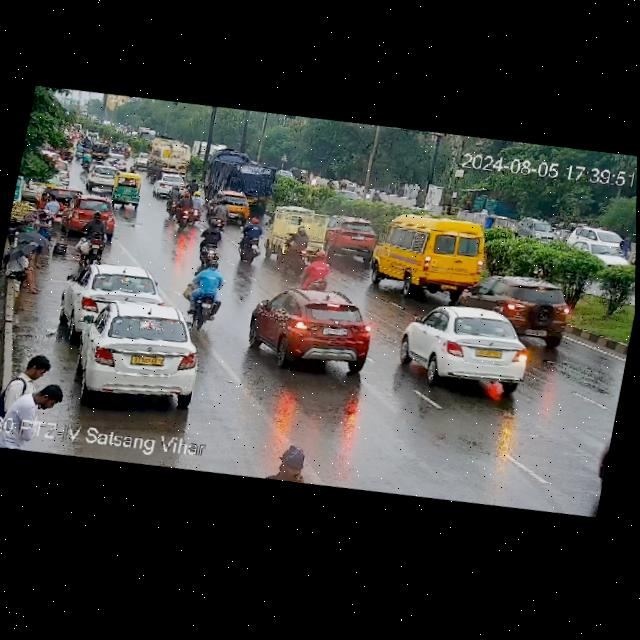bus: (367, 196, 498, 303)
car: (65, 288, 211, 415), (391, 293, 537, 405), (231, 271, 378, 381), (454, 263, 576, 351), (64, 253, 164, 330), (58, 189, 124, 238), (566, 218, 633, 266), (325, 213, 382, 264), (152, 169, 189, 200), (106, 180, 141, 210), (519, 212, 555, 241), (83, 163, 118, 192), (225, 187, 252, 220), (54, 179, 82, 210), (103, 151, 128, 172), (129, 150, 151, 173), (117, 170, 142, 189), (130, 148, 149, 167), (92, 141, 109, 158), (124, 141, 133, 157)
motorcycle: (184, 254, 227, 328), (163, 182, 207, 235), (230, 215, 266, 267), (76, 208, 113, 254), (302, 246, 336, 291), (282, 221, 313, 270), (194, 212, 227, 256), (208, 199, 232, 229), (162, 184, 184, 216), (79, 150, 95, 170), (109, 141, 125, 156), (81, 138, 94, 153), (110, 156, 123, 170), (72, 144, 82, 161), (111, 143, 125, 155)
person: (253, 431, 316, 487), (6, 374, 66, 421), (10, 348, 55, 400), (1, 246, 43, 291), (27, 212, 52, 270), (37, 192, 66, 226)
truck: (201, 141, 275, 210), (257, 197, 332, 260), (147, 134, 192, 174)
